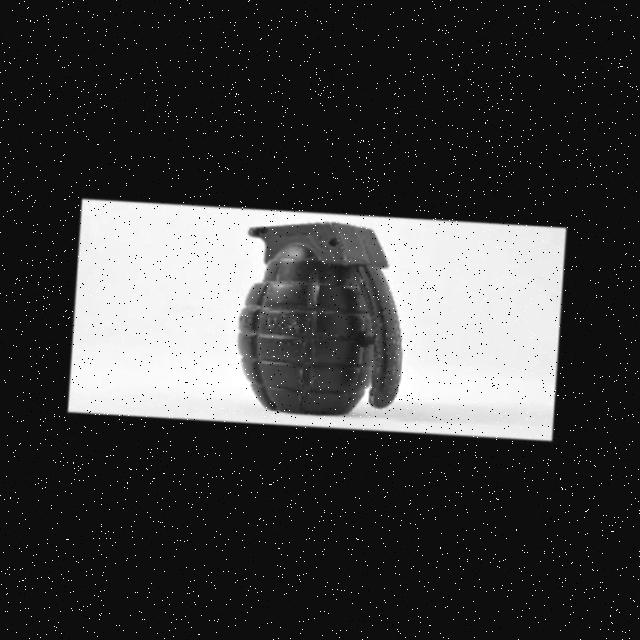grenade: (176, 177, 446, 458)
